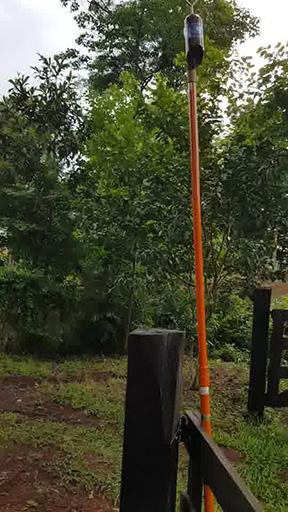Detector_Tensao_Contato: (184, 1, 206, 65)
Vara_Manobra: (185, 65, 209, 449)
